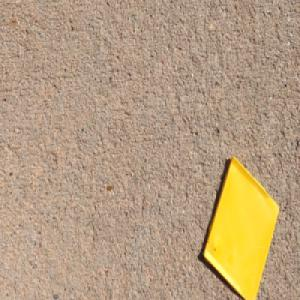PlasticPart: (202, 154, 280, 299)
